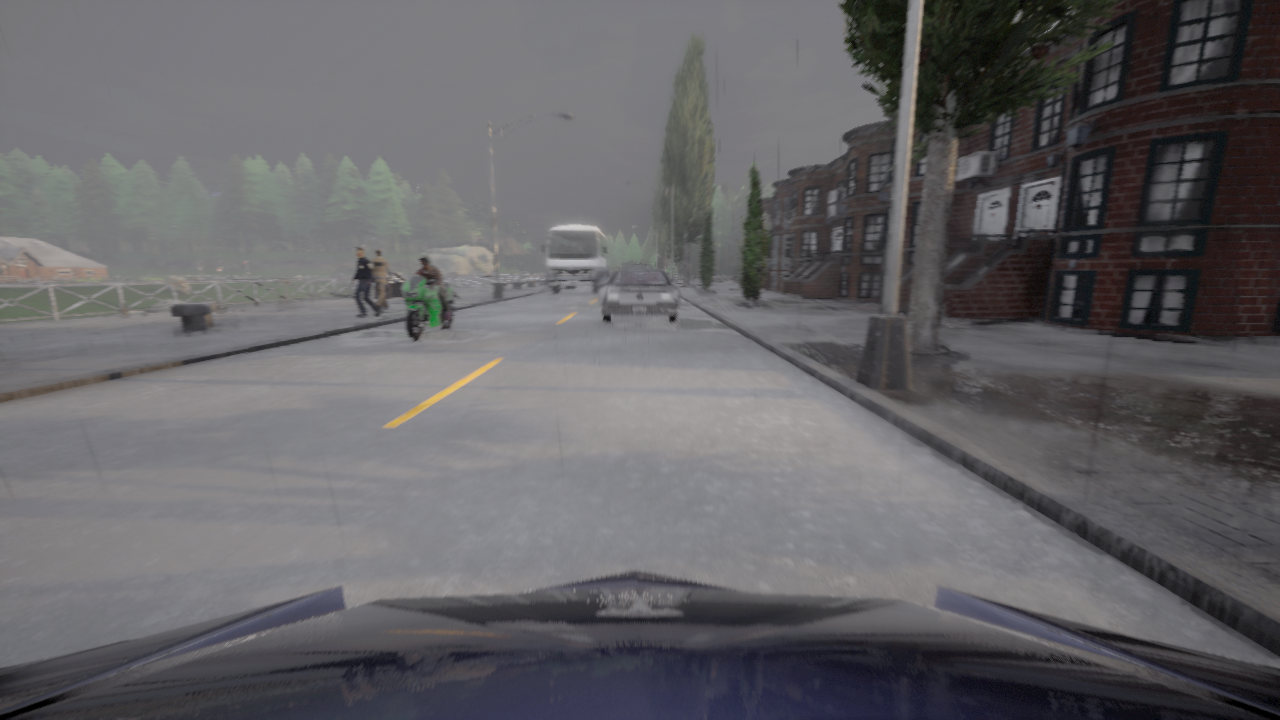cyclist: (0, 569, 1279, 719), (541, 224, 609, 292), (391, 275, 459, 341), (599, 270, 679, 322), (627, 263, 653, 270)
pedestrian: (351, 246, 380, 316), (371, 249, 392, 311)
